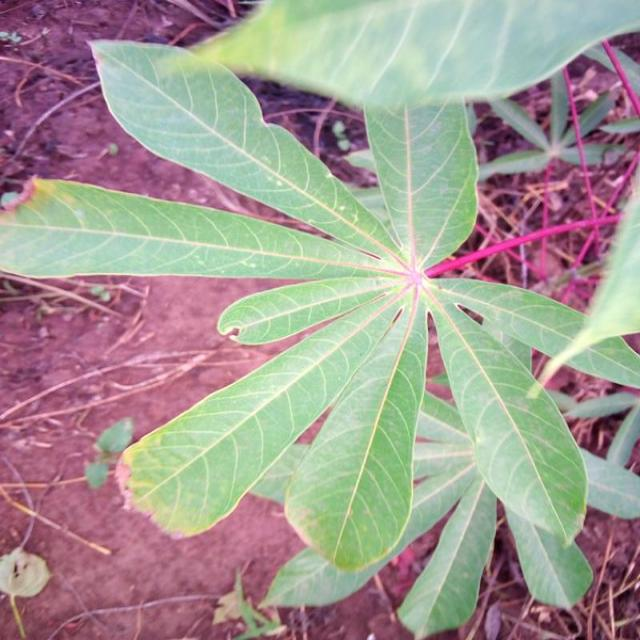cassava leaf: (1, 16, 638, 636)
